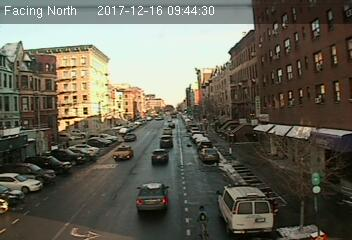bicycle: (194, 202, 212, 240)
car: (135, 182, 170, 212), (198, 147, 220, 163), (112, 145, 134, 161), (151, 148, 168, 162), (158, 135, 174, 149), (122, 133, 137, 141)
police: (215, 180, 274, 234)
